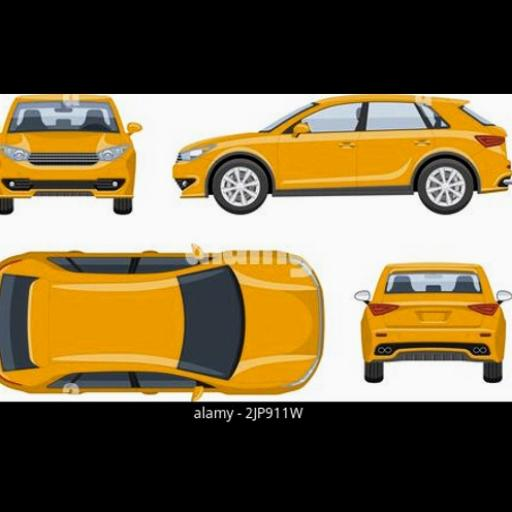hatchback: (0, 252, 321, 397), (172, 94, 510, 213), (355, 262, 512, 381), (0, 94, 139, 213)
